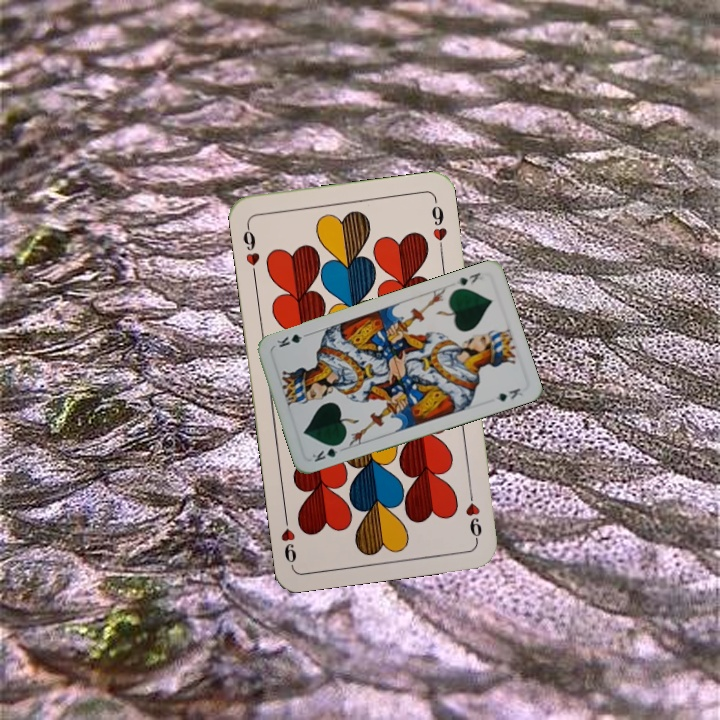GK: (308, 439, 345, 465), (452, 268, 483, 288)
H9: (239, 220, 263, 279), (461, 484, 485, 543)
